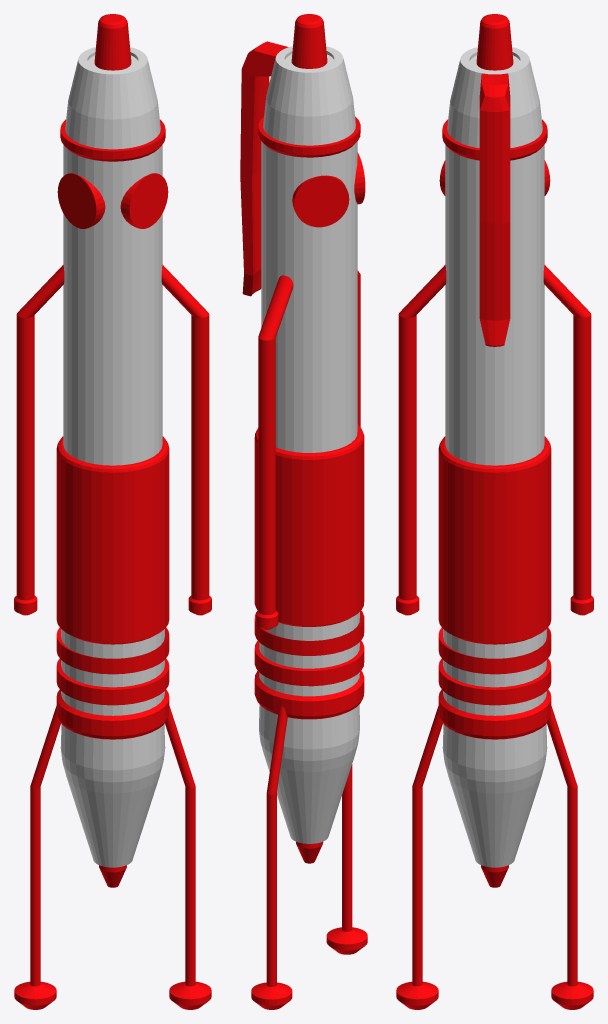
File: pen_boss.fbx
The picture shows the model from 3 angles, left to right: view 1: azimuth 90°, elevation 25°; view 2: azimuth 150°, elevation 25°; view 3: azimuth 270°, elevation 25°; orthographic projection. The views are drawn at different scales.
Parts seen in each view (by area): view 1: Cylinder; view 2: Cylinder; view 3: Cylinder.
Part boxes in pixels (left/top/right/bottom): Cylinder: left=14, top=14, right=211, bottom=1009; Cylinder: left=240, top=14, right=367, bottom=1009; Cylinder: left=396, top=14, right=593, bottom=1009.
Bounding box in the file's own units: 121 × 993 × 180.
